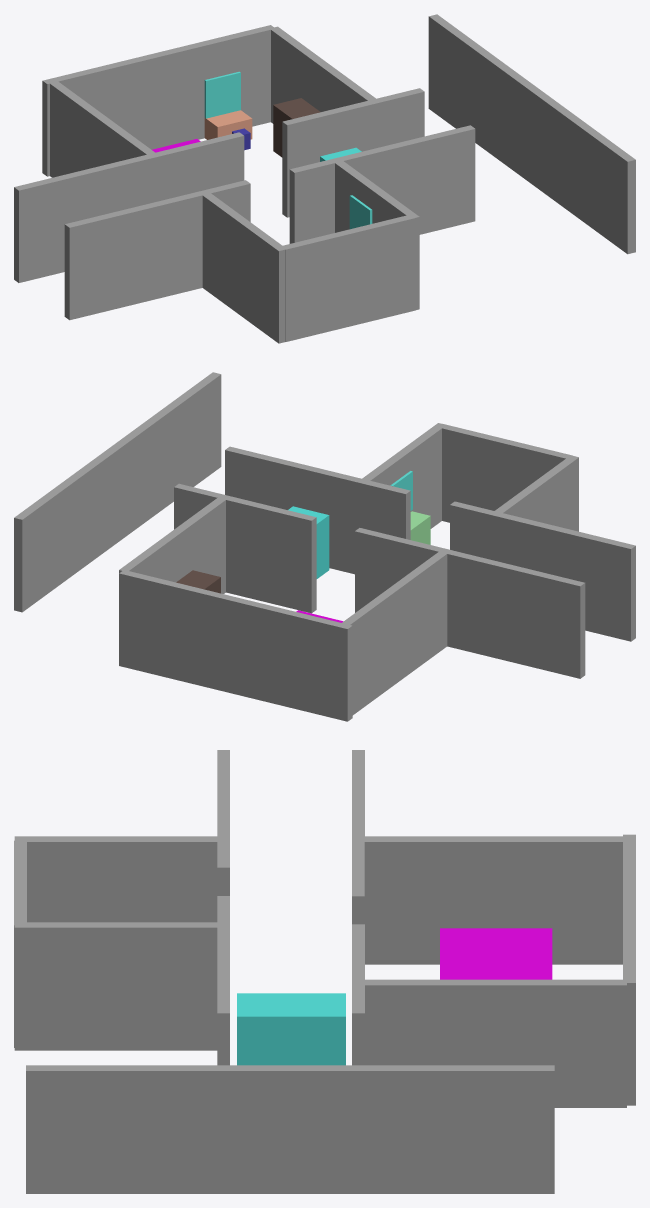
The model's file is Bathroom_Bedroom.fbx.
3 renders of one model, top to bottom at view 1: azimuth 30°, elevation 25°; view 2: azimuth 150°, elevation 25°; view 3: azimuth 270°, elevation 25°, orthographic. The views are drawn at different scales.
Parts seen in each view (by area): view 1: wall21, wall7, wall18, wall12, wall17, wall19, wall11, wall20, wall9, wall8, wall6, wall16 (+7 smaller); view 2: wall7, wall21, wall17, wall9, wall10, wall19, wall16, wall12, wall8, wall18, wall6, wall13 (+7 smaller); view 3: wall21, wall9, wall13, wall8, wall11, Box, bed1, wall7, wall19, wall20, wall12, wall6 (+3 smaller).
Boxes of the visible parts, x1=… form: wall21: x1=428, y1=14, x2=635, y2=254; wall7: x1=42, y1=25, x2=275, y2=176; wall18: x1=64, y1=191, x2=202, y2=320; wall12: x1=283, y1=214, x2=415, y2=341; wall17: x1=14, y1=155, x2=150, y2=282; wall19: x1=333, y1=125, x2=475, y2=234; wall11: x1=201, y1=192, x2=286, y2=343; wall20: x1=282, y1=88, x2=424, y2=217; wall9: x1=49, y1=81, x2=154, y2=177; wall8: x1=270, y1=26, x2=376, y2=123; wall6: x1=146, y1=132, x2=244, y2=202; wall16: x1=67, y1=192, x2=204, y2=317; wall7: x1=119, y1=570, x2=352, y2=721; wall21: x1=14, y1=372, x2=221, y2=612; wall17: x1=447, y1=549, x2=585, y2=678; wall9: x1=342, y1=551, x2=447, y2=715; wall10: x1=222, y1=495, x2=315, y2=612; wall19: x1=225, y1=446, x2=366, y2=574; wall16: x1=495, y1=512, x2=632, y2=640; wall12: x1=438, y1=423, x2=572, y2=522; wall8: x1=119, y1=498, x2=225, y2=593; wall18: x1=545, y1=527, x2=635, y2=641; wall6: x1=355, y1=528, x2=449, y2=612; wall13: x1=362, y1=423, x2=444, y2=528; wall21: x1=26, y1=1065, x2=554, y2=1193; wall9: x1=364, y1=836, x2=626, y2=964; wall13: x1=14, y1=922, x2=221, y2=1050; wall8: x1=365, y1=979, x2=626, y2=1107; wall11: x1=14, y1=836, x2=221, y2=922; Box: x1=237, y1=993, x2=345, y2=1065; bed1: x1=440, y1=928, x2=552, y2=979; wall7: x1=623, y1=834, x2=635, y2=1105; wall19: x1=217, y1=928, x2=229, y2=1065; wall20: x1=352, y1=924, x2=364, y2=1065; wall12: x1=14, y1=840, x2=26, y2=1047; wall6: x1=352, y1=836, x2=364, y2=924.
Size of the model in its own units: 11.2 by 2 by 9.18.
